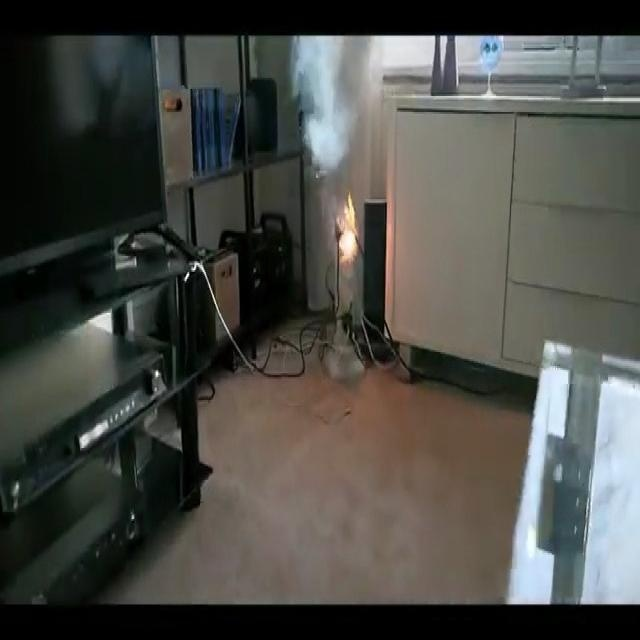smoke: (287, 39, 376, 185)
